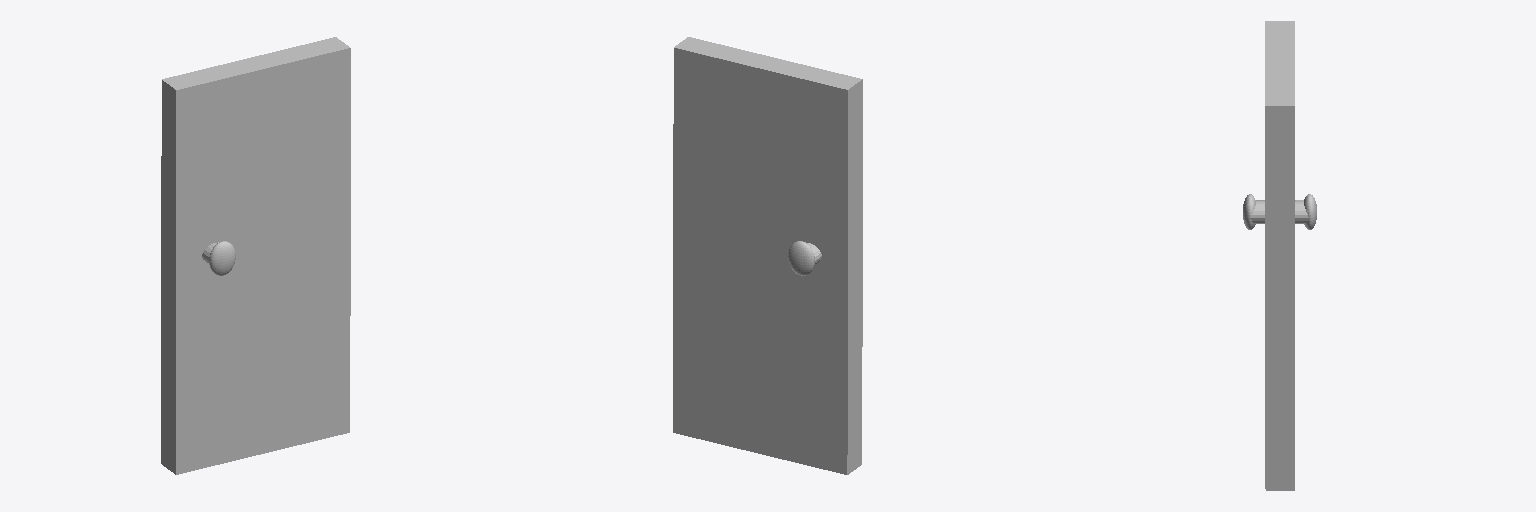
Rendered from door.obj.
3 renders of one model, left to right at view 1: azimuth 30°, elevation 25°; view 2: azimuth 150°, elevation 25°; view 3: azimuth 270°, elevation 25°, orthographic.
Parts seen in each view (by area): view 1: obj_0; view 2: obj_0; view 3: obj_0.
Part boxes in pixels (x1,y1,x2,y2): obj_0: (161, 37, 350, 474); obj_0: (673, 37, 862, 474); obj_0: (1243, 21, 1316, 490).
Bounding box in the file's own units: 27 × 57.01 × 10.